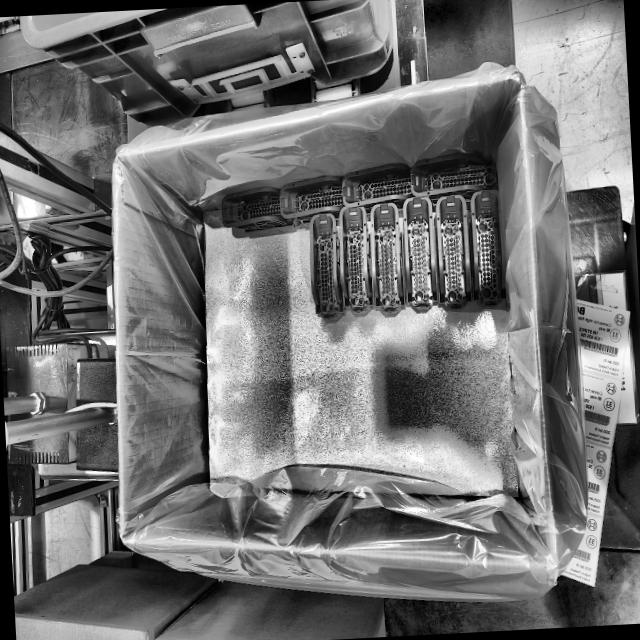P38: (436, 194, 472, 309), (471, 189, 506, 307), (222, 185, 301, 237), (403, 196, 439, 310), (371, 201, 406, 314), (339, 204, 374, 314), (411, 151, 497, 195), (310, 213, 345, 321), (280, 175, 343, 227), (343, 162, 411, 206)
